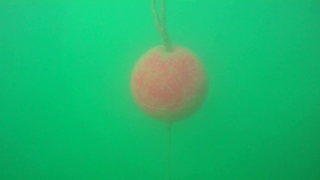buoy: (129, 44, 210, 123)
